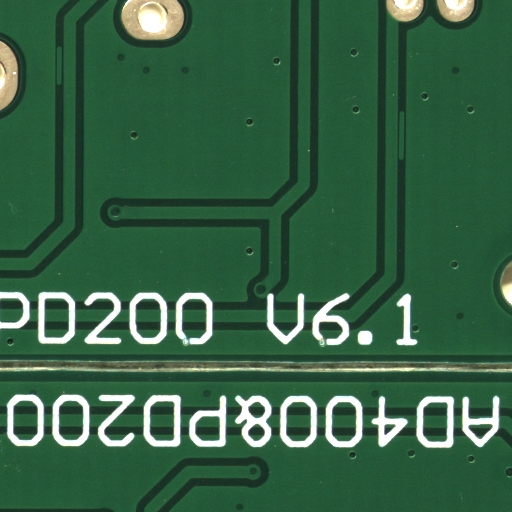Spurious_copper: (400, 135, 408, 188), (58, 64, 66, 107)
